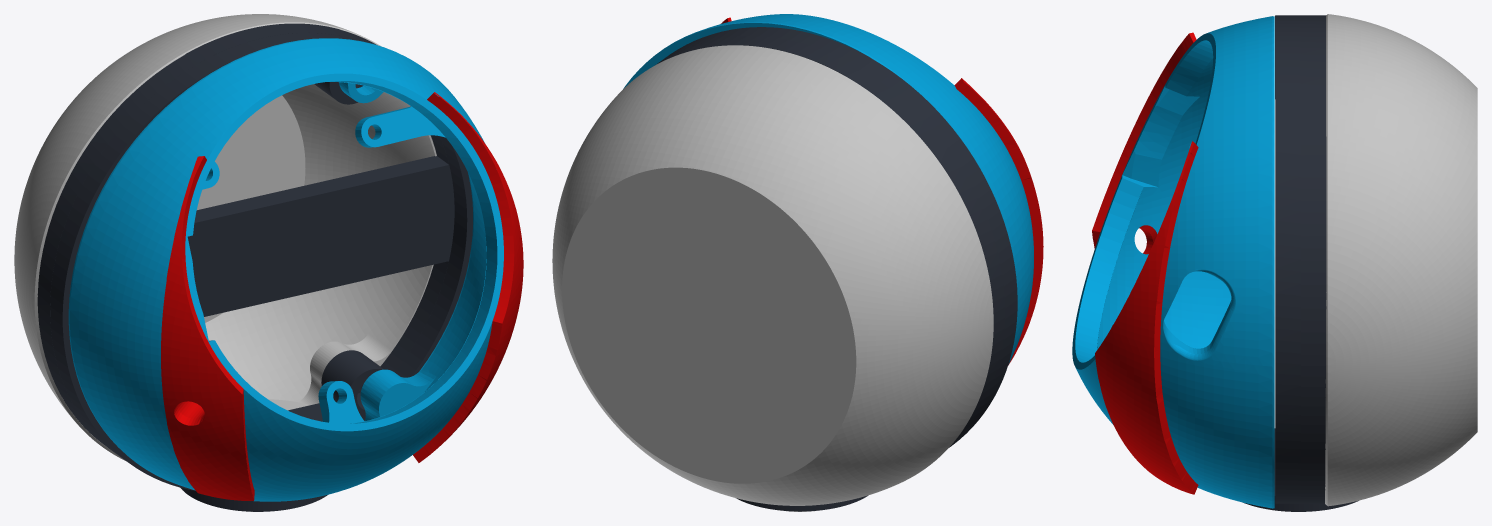
Rendered from poketama-great.glb.
3 renders of one model, left to right at view 1: azimuth 30°, elevation 25°; view 2: azimuth 150°, elevation 25°; view 3: azimuth 270°, elevation 25°, orthographic.
Size of the model in its own units: 1.96 by 2 by 1.58.
